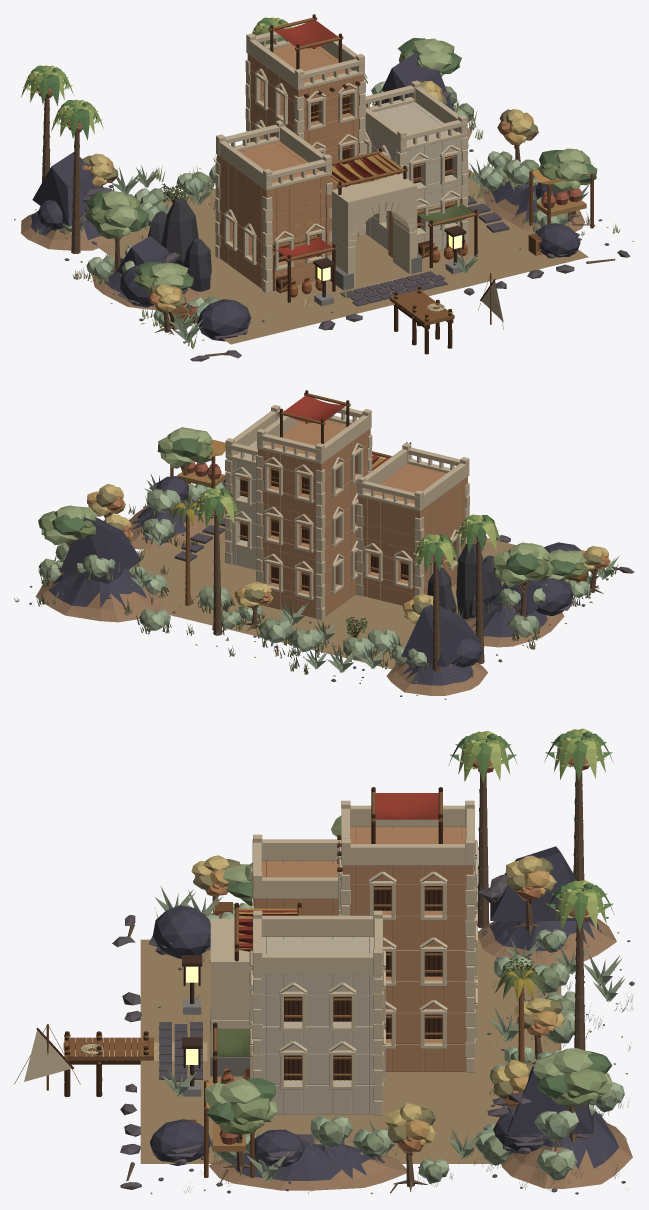
Rendered from aden.glb.
3 views of the same model, one above another, from view 1: azimuth 30°, elevation 25°; view 2: azimuth 150°, elevation 25°; view 3: azimuth 270°, elevation 25° (orthographic). The views are drawn at different scales.
Parts seen in each view (by area): view 1: aden; view 2: aden; view 3: aden.
Part boxes in pixels (x1,y1,x2,y2): aden: (14, 14, 633, 361); aden: (14, 390, 634, 699); aden: (14, 728, 634, 1194).
Bounding box in the file's own units: 7.75 × 3.59 × 7.02.
